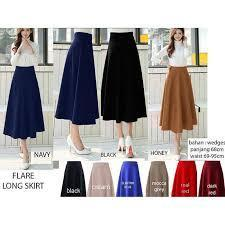skirt: (99, 31, 154, 132), (54, 28, 102, 134), (151, 60, 204, 136), (0, 66, 47, 143)
